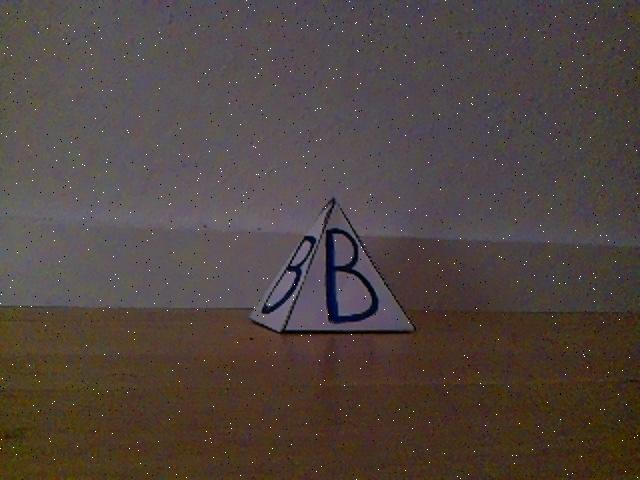B: (254, 198, 418, 336)
